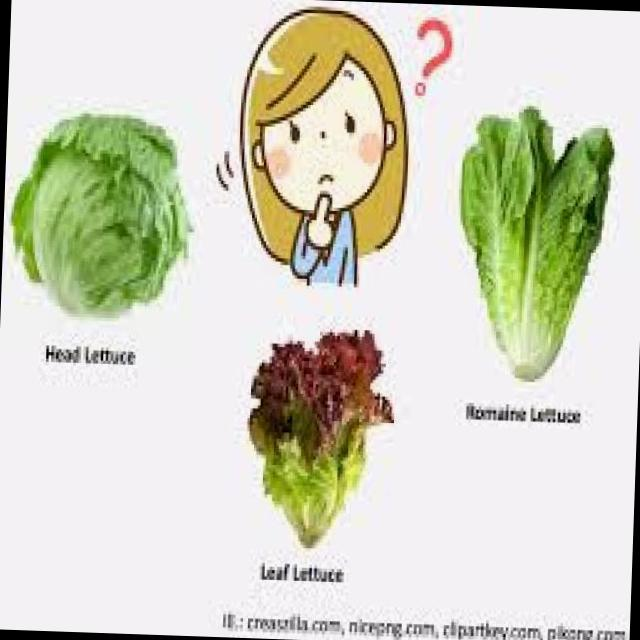Lettuce-Ready-to-Harvest: (460, 107, 614, 379), (13, 113, 187, 313), (249, 330, 392, 545)
